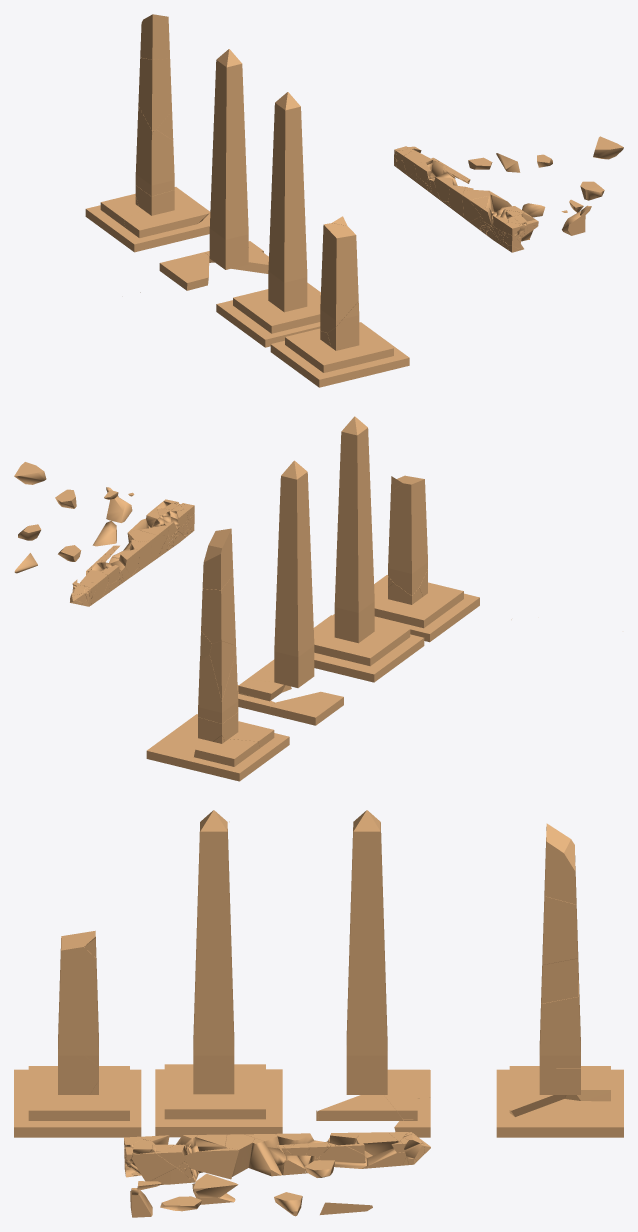
File: obelischi.fbx
3 views of the same model, one above another, from view 1: azimuth 30°, elevation 25°; view 2: azimuth 150°, elevation 25°; view 3: azimuth 270°, elevation 25° (orthographic). The views are drawn at different scales.
Visible parts, largest first — view 1: Cube.002, Cube.003, Cube.002_cell, Cube.005, Cube.004, Cube.001, Cube.007, Cube.003_cell.009, Cube.003_cell.003, Cube.005_cell.001, Cube.006, Cube.004_cell.001 (+6 smaller); view 2: Cube.002, Cube.003, Cube.002_cell, Cube.004, Cube.007, Cube.005, Cube.003_cell.003, Cube.006, Cube.003_cell.009, Cube.004_cell.001, Cube.003_cell.008, Cube.001 (+9 smaller); view 3: Cube.002, Cube.003, Cube.007, Cube.002_cell, Cube.005, Cube.004, Cube.001, Cube.006, Cube.003_cell.003, Cube.003_cell.009, Cube.003_cell.008, Cube.004_cell.005 (+18 smaller).
Part boxes in pixels (x1,y1,x2,y2): Cube.002: [268, 92, 307, 312]; Cube.003: [209, 59, 248, 269]; Cube.002_cell: [320, 223, 358, 332]; Cube.005: [285, 323, 393, 372]; Cube.004: [85, 187, 210, 252]; Cube.001: [270, 322, 409, 387]; Cube.007: [233, 284, 320, 333]; Cube.003_cell.009: [138, 57, 171, 130]; Cube.003_cell.003: [135, 129, 174, 196]; Cube.005_cell.001: [124, 208, 209, 238]; Cube.006: [216, 282, 320, 347]; Cube.004_cell.001: [159, 252, 209, 290]; Cube.002: [334, 416, 374, 643]; Cube.003: [274, 463, 314, 687]; Cube.002_cell: [388, 475, 427, 595]; Cube.004: [146, 714, 289, 781]; Cube.007: [313, 614, 410, 666]; Cube.005: [374, 576, 463, 628]; Cube.003_cell.003: [198, 651, 238, 723]; Cube.006: [313, 615, 424, 682]; Cube.003_cell.009: [201, 575, 235, 645]; Cube.004_cell.001: [270, 691, 343, 725]; Cube.003_cell.008: [202, 528, 233, 589]; Cube.001: [374, 575, 479, 642]; Cube.002: [193, 810, 234, 1094]; Cube.003: [346, 819, 387, 1094]; Cube.007: [164, 1064, 265, 1119]; Cube.002_cell: [58, 930, 98, 1065]; Cube.005: [28, 1066, 129, 1120]; Cube.004: [496, 1069, 623, 1137]; Cube.001: [14, 1069, 141, 1137]; Cube.006: [155, 1069, 282, 1137]; Cube.003_cell.003: [539, 977, 580, 1068]; Cube.003_cell.009: [542, 891, 578, 970]; Cube.003_cell.008: [544, 823, 576, 904]; Cube.004_cell.005: [509, 1101, 607, 1137].
Bounding box in the file's own units: 989 × 363 × 671.
